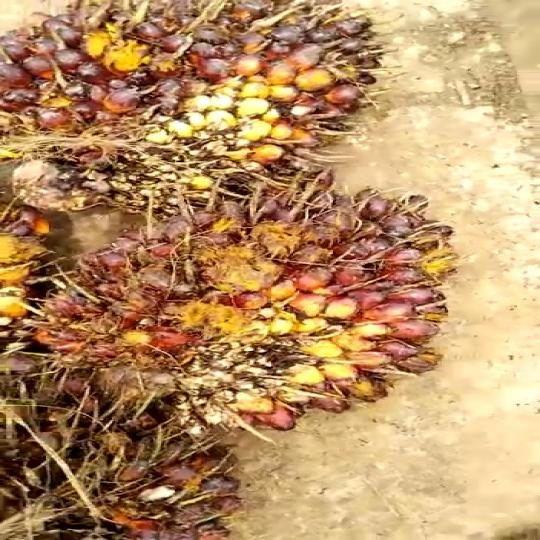masak: (65, 180, 469, 462), (0, 0, 368, 197)
